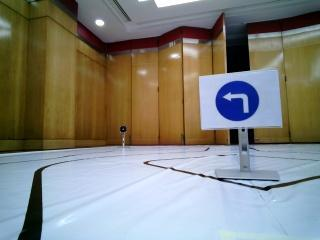left: (203, 76, 272, 124)
